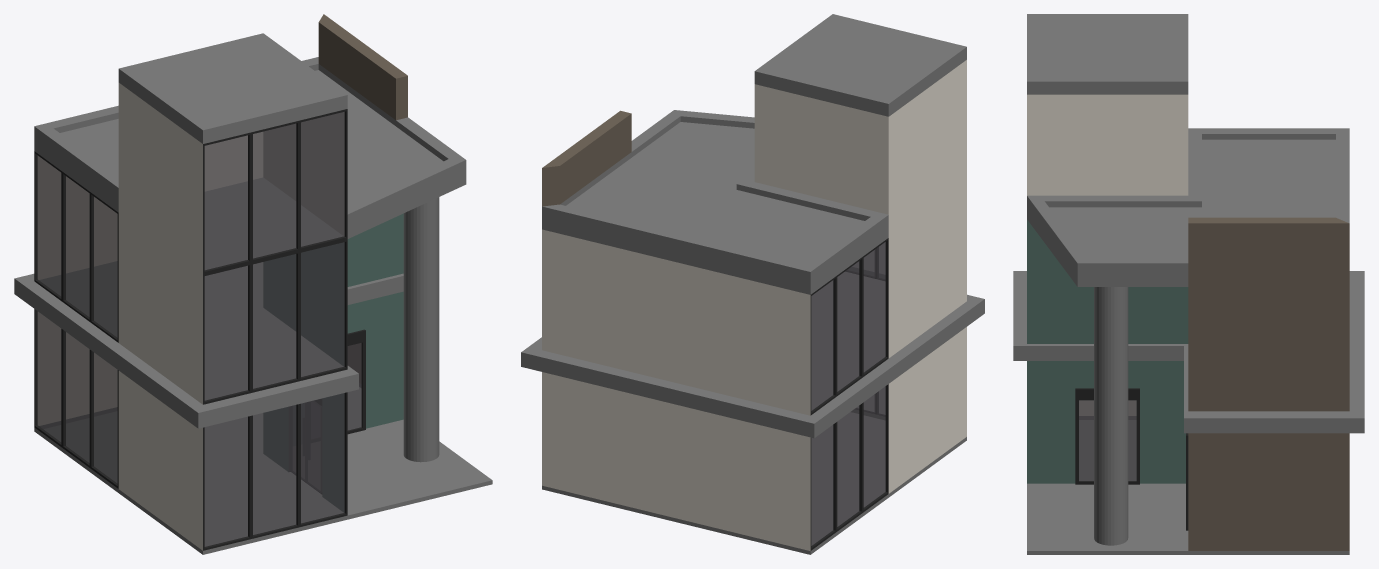
File: industrial3.fbx
The picture shows the model from 3 angles, left to right: view 1: azimuth 30°, elevation 25°; view 2: azimuth 150°, elevation 25°; view 3: azimuth 270°, elevation 25°; orthographic projection. The views are drawn at different scales.
Parts seen in each view (by area): view 1: Cube; view 2: Cube; view 3: Cube.
Boxes of the visible parts, x1,y1,x2,y2 form: Cube: (14,14,492,554); Cube: (521,14,984,554); Cube: (1013,14,1364,554).
Bounding box in the file's own units: 1523 × 1955 × 1535.
